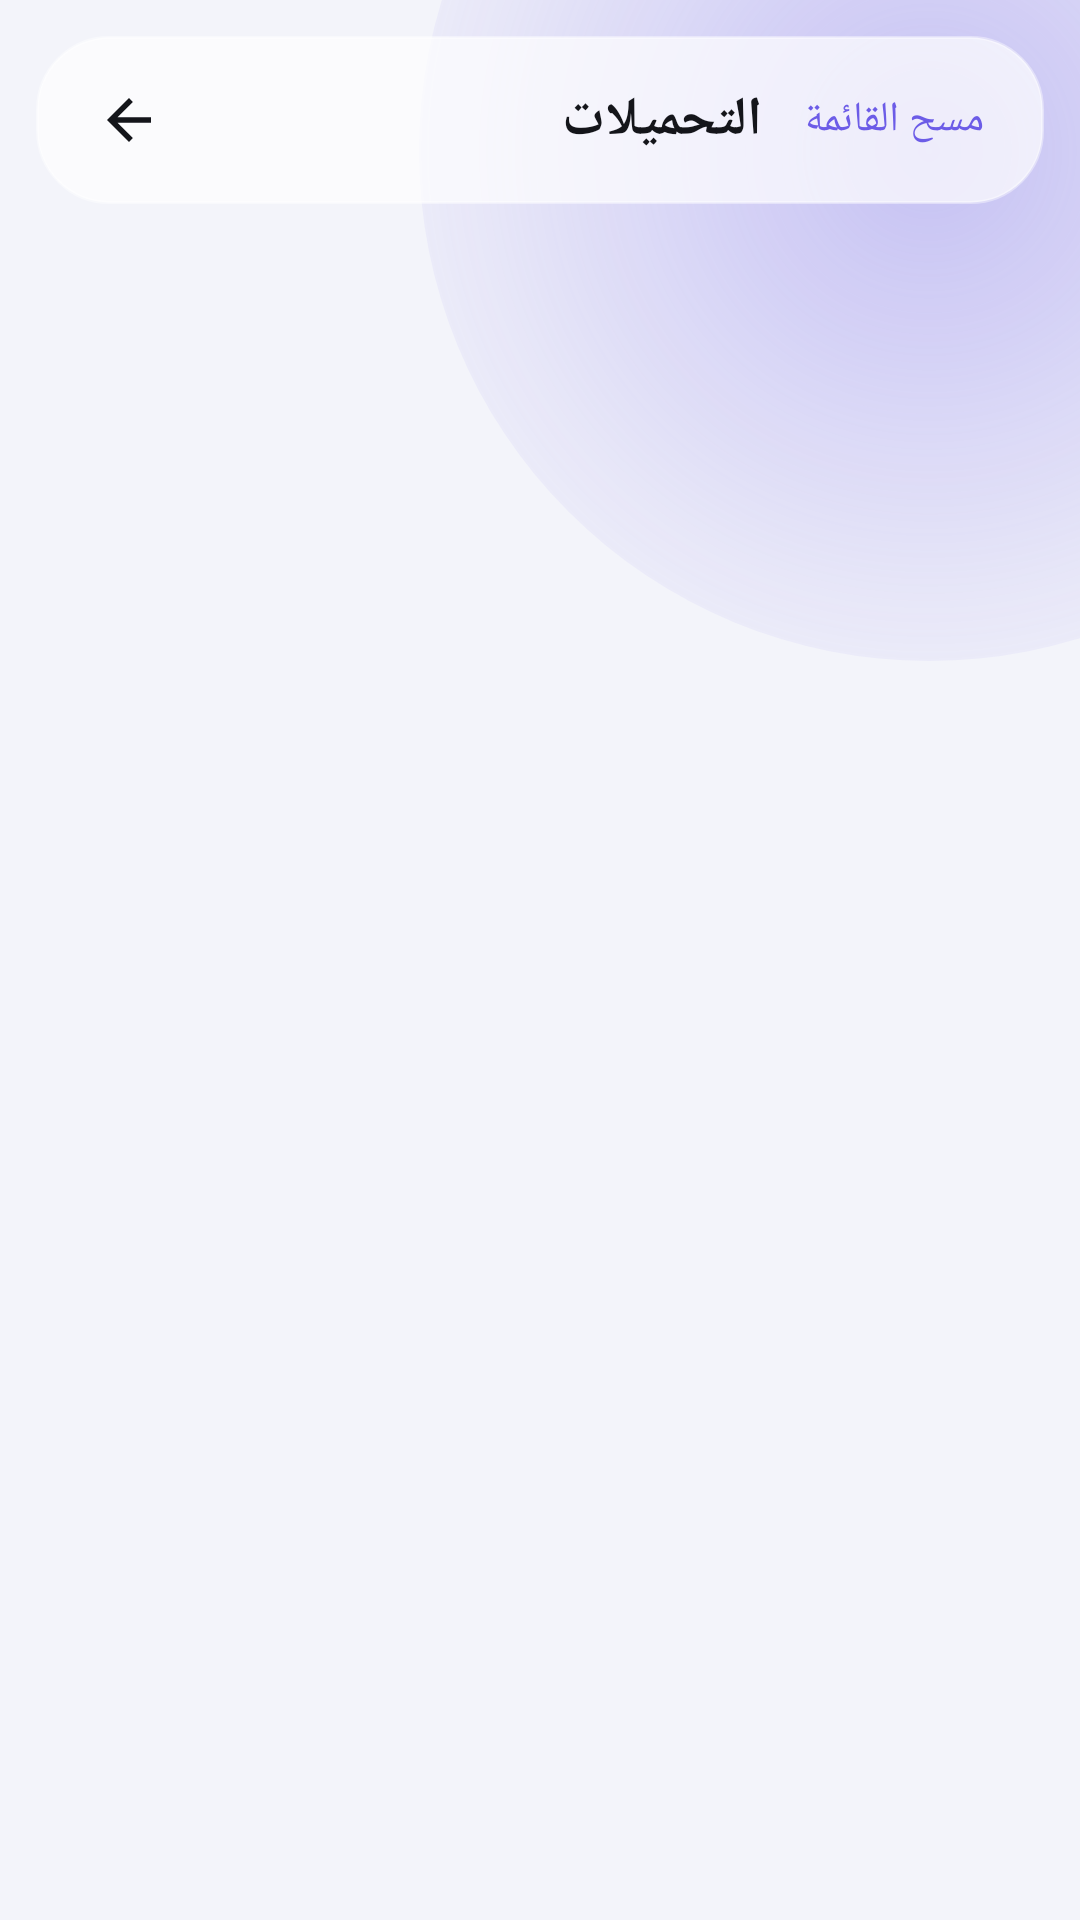

Locate icon controls on the screen. Image size 1080*1920, boxes as region(x1, y1, x2, y2).
رجوع: region(107, 98, 151, 142)
